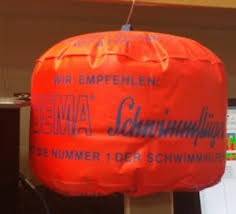buoy: (29, 32, 228, 195)
